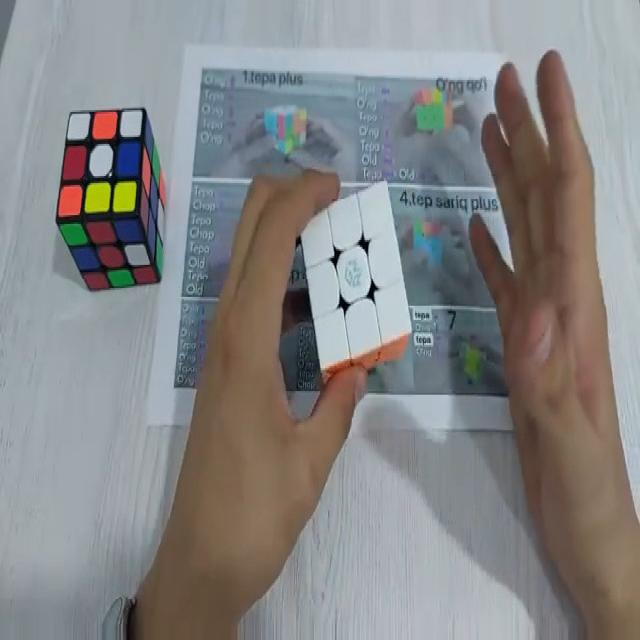Rub: (299, 179, 415, 383), (56, 106, 164, 288)
